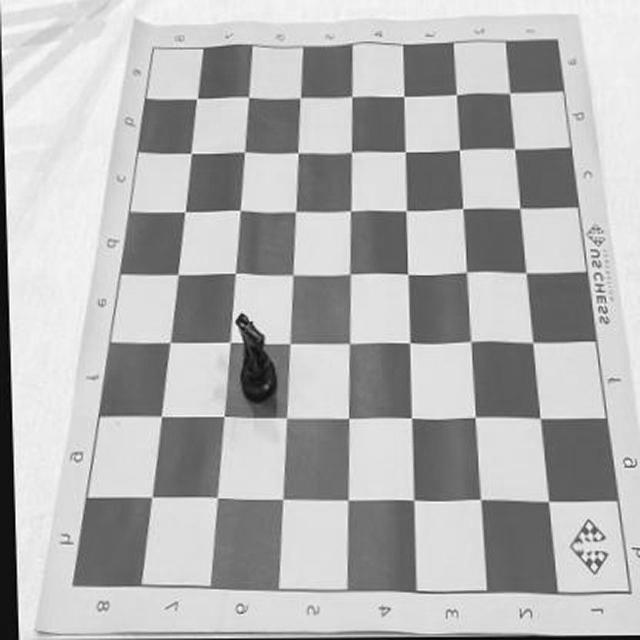chessboard: (73, 41, 630, 590)
